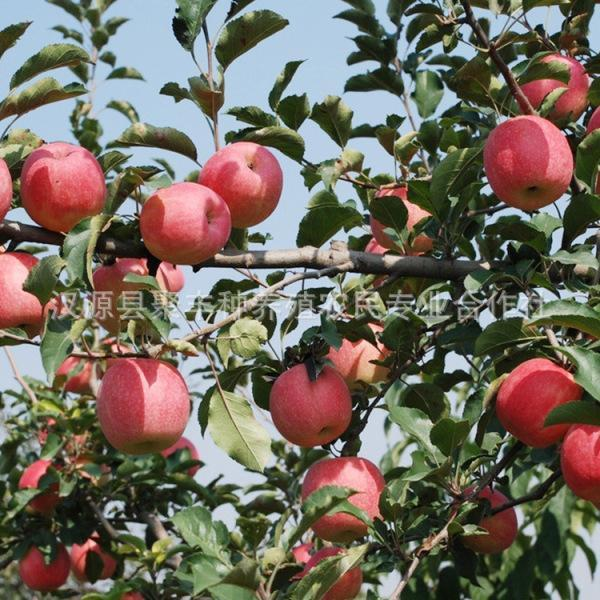apple: (95, 358, 190, 456), (193, 140, 286, 238), (486, 114, 574, 214), (135, 182, 232, 266), (495, 358, 584, 444), (22, 140, 104, 231), (269, 359, 351, 446), (510, 52, 593, 123), (298, 457, 383, 522), (1, 249, 46, 340), (459, 488, 518, 554), (559, 425, 599, 510), (310, 511, 366, 545)
